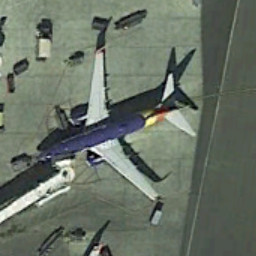Airplane: (25, 42, 207, 215)
